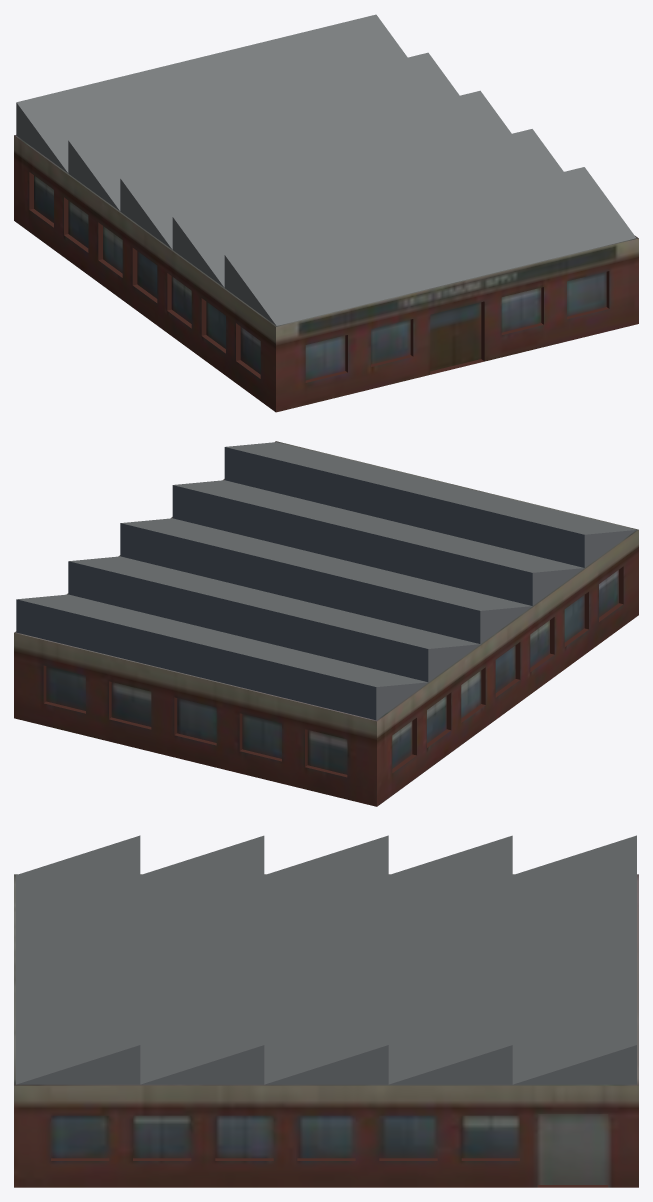
The model's file is seattle_low_h.glb.
The picture shows the model from 3 angles, top to bottom: view 1: azimuth 30°, elevation 25°; view 2: azimuth 150°, elevation 25°; view 3: azimuth 270°, elevation 25°; orthographic projection. The views are drawn at different scales.
Visible parts, largest first — view 1: seattle_low_h; view 2: seattle_low_h; view 3: seattle_low_h.
Boxes of the visible parts, x1=… form: seattle_low_h: x1=14, y1=14, x2=638, y2=412; seattle_low_h: x1=14, y1=441, x2=638, y2=806; seattle_low_h: x1=14, y1=835, x2=638, y2=1187.
Size of the model in its own units: 24 by 7.5 by 30.
1 material, 1 textured.
